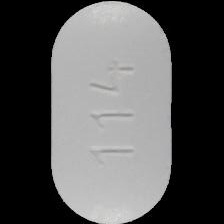31722-533: (0, 0, 224, 224)
